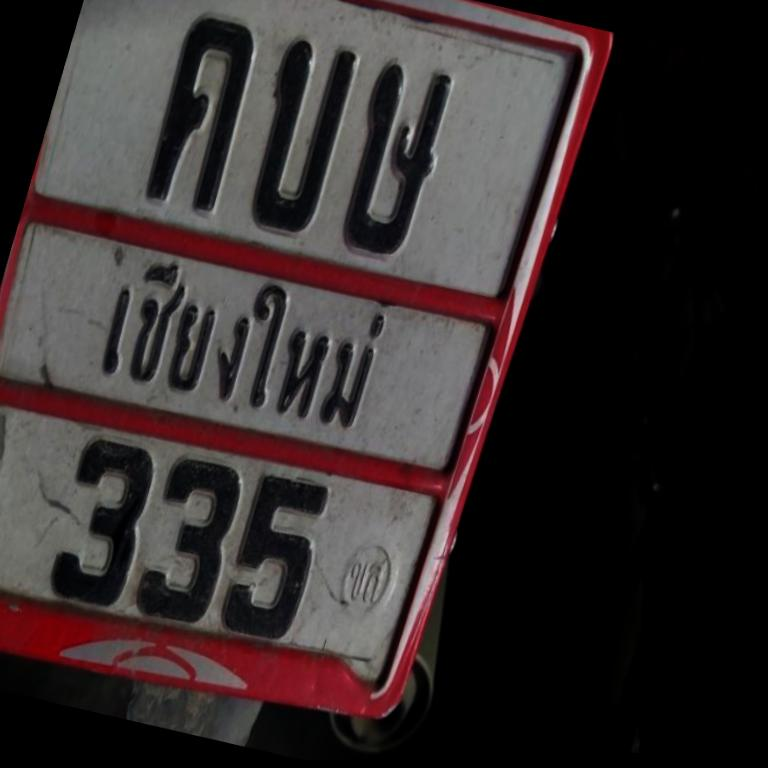license plate: (0, 0, 613, 766)
